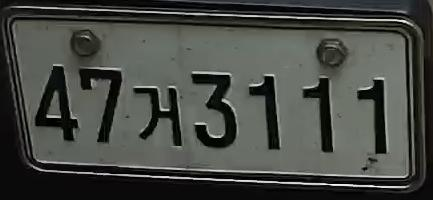1: (349, 74, 399, 159), (297, 74, 346, 160), (245, 66, 291, 155)
3: (188, 66, 242, 156)
4: (32, 64, 80, 146)
7: (79, 63, 125, 146)
거: (127, 82, 188, 158)
